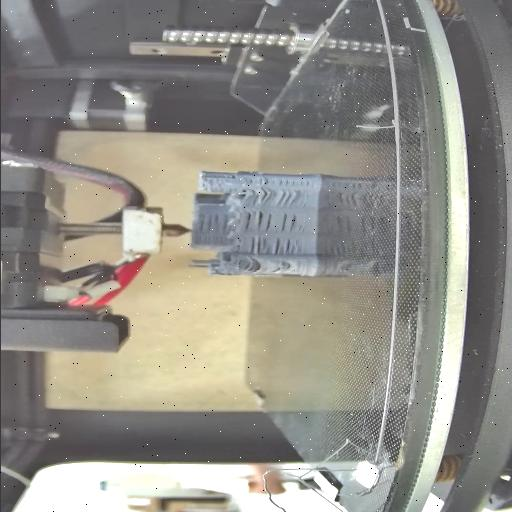cracks: (194, 212, 228, 236), (244, 176, 308, 186), (244, 186, 272, 208), (275, 188, 303, 210), (244, 211, 272, 233), (272, 237, 302, 255), (279, 213, 303, 234), (246, 236, 268, 254), (244, 262, 258, 274), (269, 265, 283, 275), (221, 176, 237, 182)
